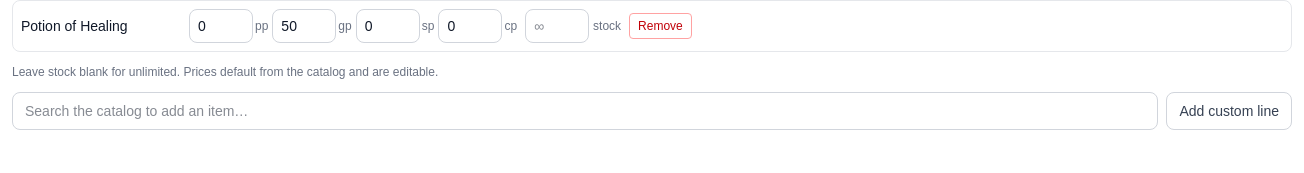
it: ShopStockEditor › says every match shown is already in stock when results are all stocked
Type "pot" into the field named "search items" at {"x": 585, "y": 111}, box [12, 92, 1158, 130]
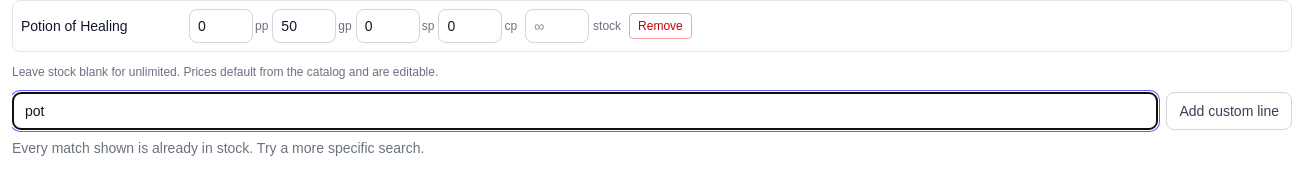
Check: the text "Every match shown is already in stock" is shown, box [12, 140, 424, 156]
